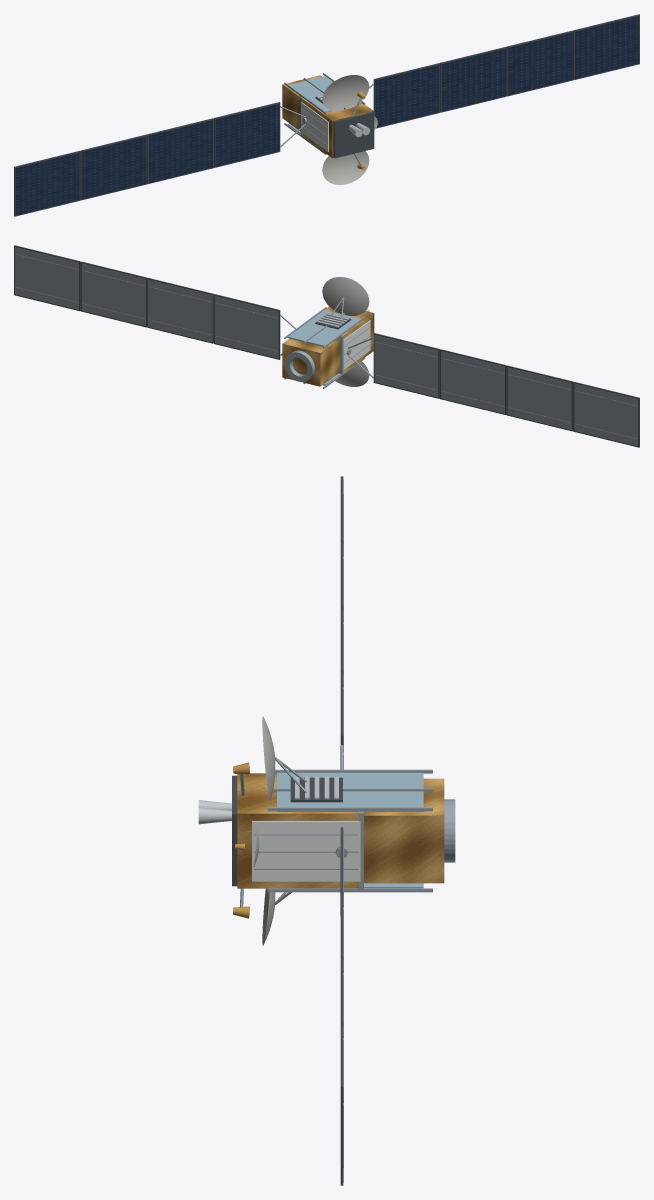
The model's file is amc-9-spacebus.glb.
3 views of the same model, one above another, from view 1: azimuth 30°, elevation 25°; view 2: azimuth 150°, elevation 25°; view 3: azimuth 270°, elevation 25° (orthographic). The views are drawn at different scales.
Parts seen in each view (by area): view 1: Solar cell panel (×8), Solar panel frame (×8), Communications reflector (×2), Earth-facing deck, Payload module, Radiator face, Service module, Equipment bay sidewall; view 2: Rear array substrate (×8), Solar panel frame (×8), Communications reflector (×2), Service module, Equipment bay sidewall, Radiator face, Launch adapter ring, Payload module; view 3: Service module, Radiator face, Payload module, Equipment bay sidewall.
Part boxes in pixels (bbox=[...]): Solar cell panel (×8): bbox=[15, 16, 638, 215]; Solar panel frame (×8): bbox=[14, 14, 639, 216]; Communications reflector (×2): bbox=[322, 75, 369, 184]; Earth-facing deck: bbox=[333, 112, 374, 158]; Payload module: bbox=[302, 98, 373, 158]; Radiator face: bbox=[301, 102, 328, 151]; Service module: bbox=[282, 75, 321, 131]; Equipment bay sidewall: bbox=[289, 76, 361, 112]; Rear array substrate (×8): bbox=[15, 247, 638, 446]; Solar panel frame (×8): bbox=[14, 245, 639, 447]; Communications reflector (×2): bbox=[322, 277, 369, 386]; Service module: bbox=[282, 338, 340, 386]; Equipment bay sidewall: bbox=[287, 310, 360, 346]; Radiator face: bbox=[343, 320, 370, 369]; Launch adapter ring: bbox=[285, 350, 314, 381]; Payload module: bbox=[325, 306, 373, 372]; Service module: bbox=[364, 778, 444, 883]; Radiator face: bbox=[252, 821, 360, 881]; Payload module: bbox=[237, 773, 358, 888]; Equipment bay sidewall: bbox=[277, 772, 423, 811].
Bounding box in the file's own units: 37.96 × 6.29 × 6.75.
10 materials, 2 textured.
